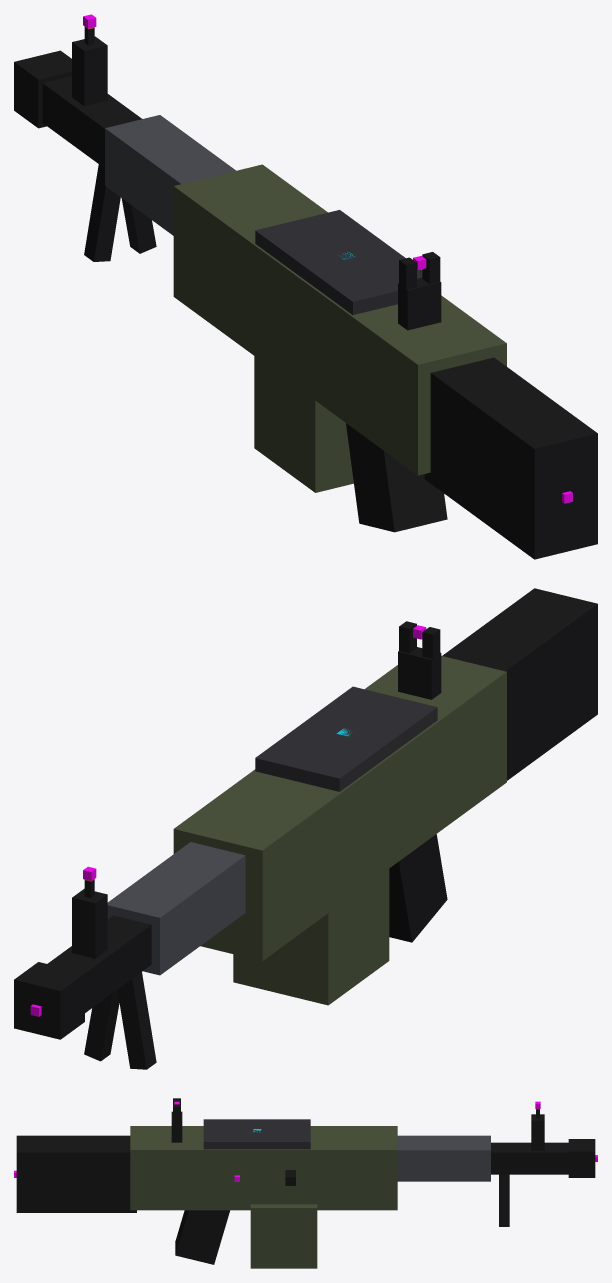
The model's file is LMG.obj.
The picture shows the model from 3 angles, top to bottom: view 1: azimuth 30°, elevation 25°; view 2: azimuth 150°, elevation 25°; view 3: azimuth 270°, elevation 25°; orthographic projection. The views are drawn at different scales.
Visible parts, largest first — view 1: Skin_Body, Stock, Cover, Skin_Magazine_Box, Shroud, Grip, Barrel, Muzzle, FrontBase, BipodL, RearBase, BipodR; view 2: Skin_Body, Stock, Cover, Shroud, Skin_Magazine_Box, Muzzle, Barrel, Grip, BipodL, FrontBase, RearBase, BipodR; view 3: Skin_Body, Stock, Skin_Magazine_Box, Shroud, Cover, Barrel, Grip, Muzzle, BipodR, FrontBase, RearBase.
Boxes of the visible parts, box(x1,y1,x2,y2) form: Skin_Body: box(173, 164, 506, 475); Stock: box(424, 357, 597, 559); Cover: box(255, 210, 422, 314); Skin_Magazine_Box: box(254, 356, 353, 492); Shroud: box(105, 115, 235, 235); Grip: box(346, 423, 447, 532); Barrel: box(42, 76, 141, 168); Muzzle: box(14, 50, 71, 128); FrontBase: box(72, 36, 107, 106); BipodL: box(84, 164, 120, 261); RearBase: box(398, 277, 441, 330); BipodR: box(121, 198, 156, 253); Skin_Body: box(173, 656, 506, 961); Stock: box(442, 588, 597, 780); Cover: box(255, 686, 437, 791); Shroud: box(107, 842, 245, 975); Skin_Magazine_Box: box(233, 869, 389, 1005); Muzzle: box(14, 962, 84, 1039); Barrel: box(47, 915, 151, 1012); Grip: box(389, 834, 447, 942); BipodL: box(117, 972, 156, 1069); FrontBase: box(72, 888, 107, 958); RearBase: box(398, 647, 441, 699); BipodR: box(84, 990, 119, 1061); Skin_Body: box(130, 1126, 397, 1210); Stock: box(16, 1135, 136, 1212); Skin_Magazine_Box: box(250, 1204, 317, 1268); Shroud: box(397, 1135, 490, 1181); Cover: box(203, 1119, 310, 1149); Barrel: box(491, 1142, 568, 1174); Grip: box(175, 1210, 229, 1264); Muzzle: box(568, 1139, 595, 1177); BipodR: box(499, 1174, 509, 1226); FrontBase: box(531, 1114, 544, 1150); RearBase: box(171, 1111, 182, 1142).
Size of the model in its own units: 0.555 by 1.28 by 4.37.
